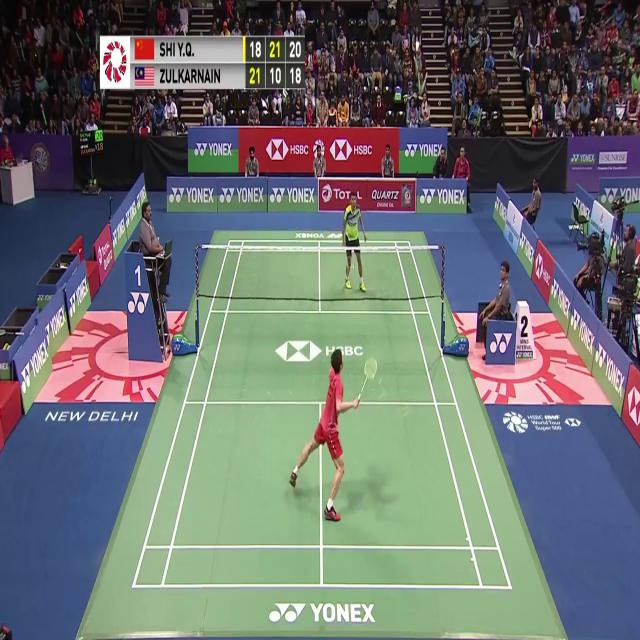Shuttlecock: (414, 44, 420, 56)
